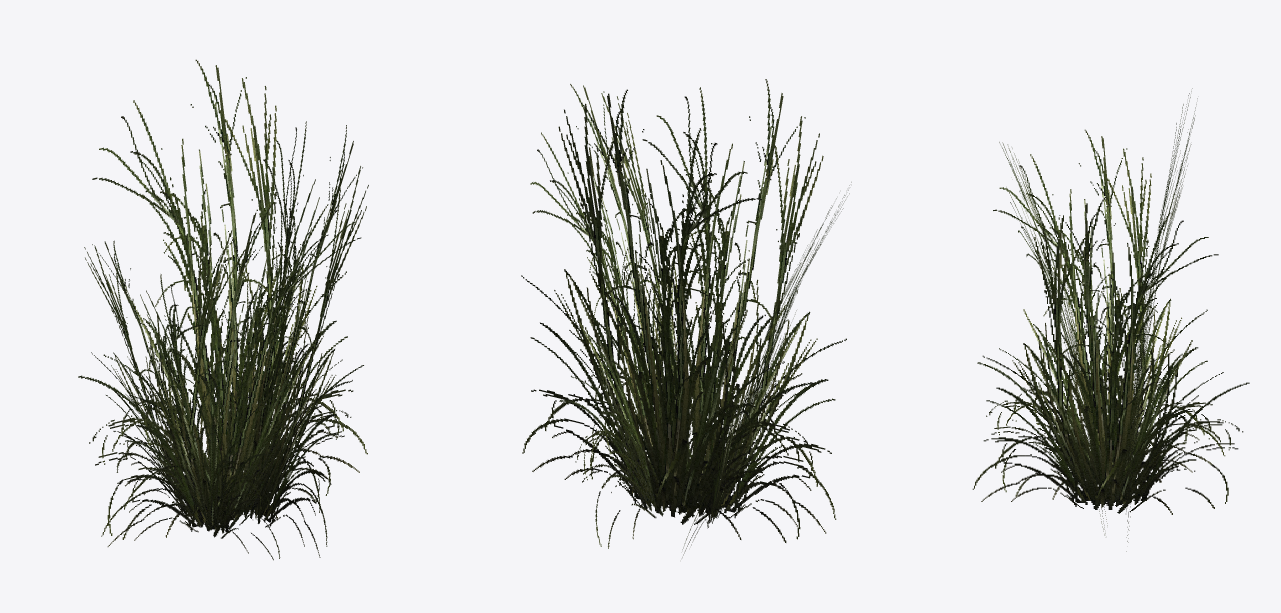
The model's file is grass_2.glb.
3 renders of one model, left to right at view 1: azimuth 30°, elevation 25°; view 2: azimuth 150°, elevation 25°; view 3: azimuth 270°, elevation 25°, orthographic. The views are drawn at different scales.
Parts seen in each view (by area): view 1: grass_2; view 2: grass_2; view 3: grass_2.
Boxes of the visible parts, x1,y1,x2,y2 form: grass_2: (78, 59, 368, 560); grass_2: (521, 79, 851, 557); grass_2: (972, 88, 1249, 551).
Bounding box in the file's own units: 0.7557 × 1 × 0.6727.
1 material, 1 textured.
